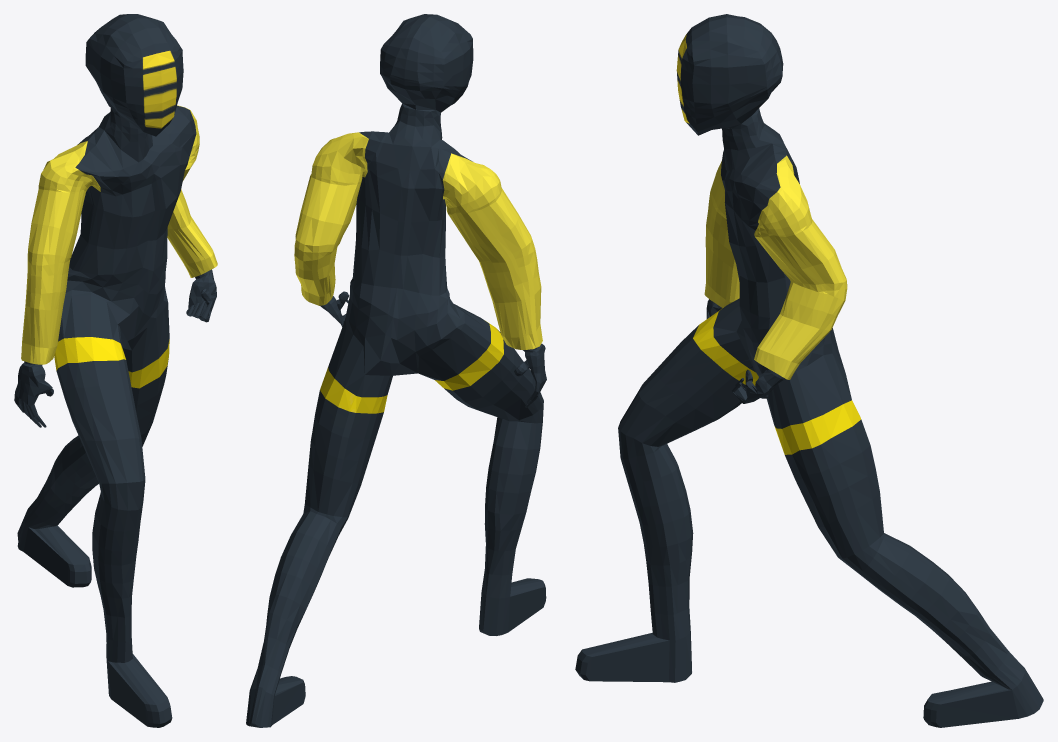
Rendered from Sentry_Stun_Recover_000005.obj.
3 views of the same model, side by side, from view 1: azimuth 30°, elevation 25°; view 2: azimuth 150°, elevation 25°; view 3: azimuth 270°, elevation 25° (orthographic). The views are drawn at different scales.
Parts seen in each view (by area): view 1: Cube; view 2: Cube; view 3: Cube.
Boxes of the visible parts, x1,y1,x2,y2 form: Cube: (14,14,217,727); Cube: (246,14,546,727); Cube: (575,14,1043,727).
Bounding box in the file's own units: 1.29 × 3.58 × 2.23.
